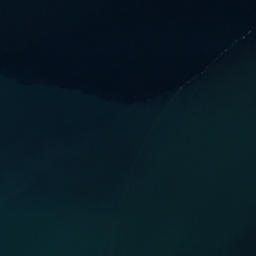Marine Debris: (152, 48, 228, 99), (241, 30, 251, 40)
